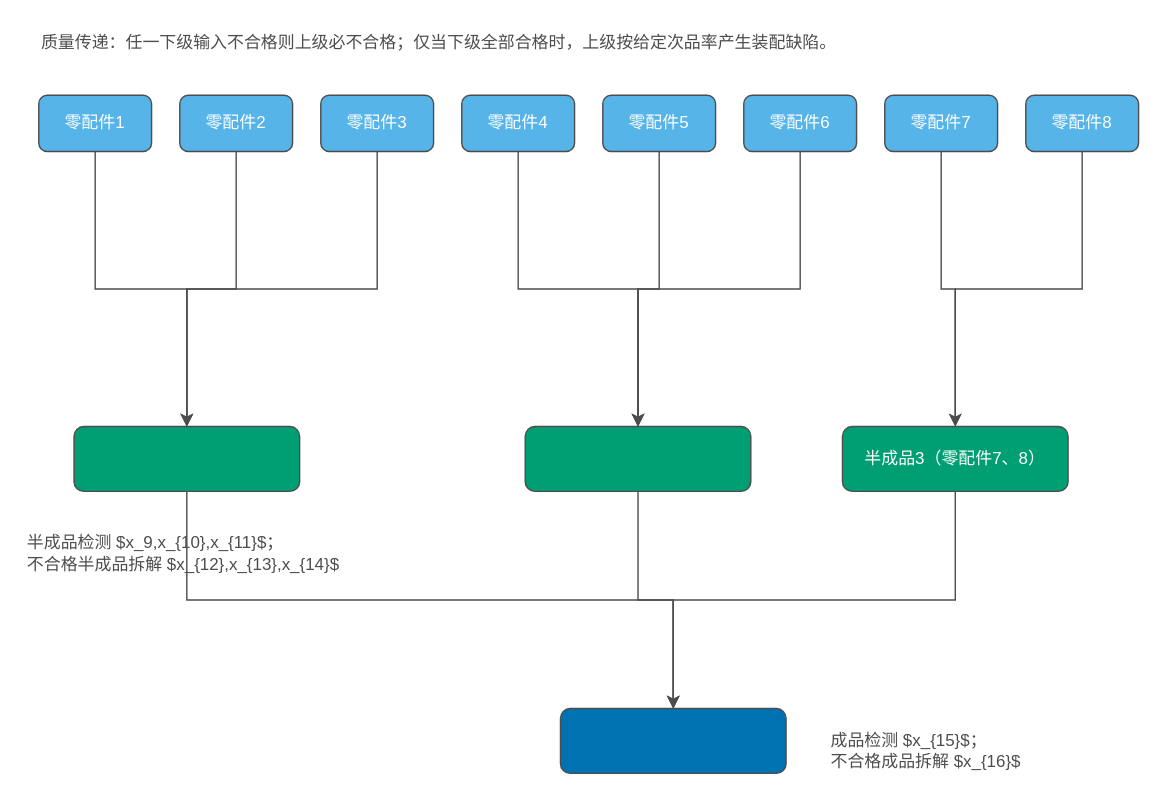
Image size: 1163x802. Some labels were removed from this diagram. Here are the shapes that lost their labels. From the top down, the box of each, then its label:
(73, 425, 300, 491): 半成品1（零配件1、2、3）
(524, 425, 751, 491): 半成品2（零配件4、5、6）
(559, 707, 786, 773): 成品
